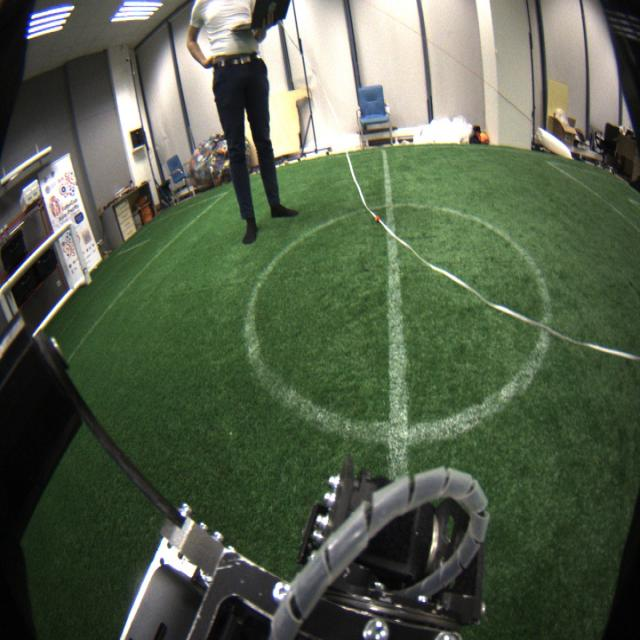goalpost: (66, 217, 92, 284)
